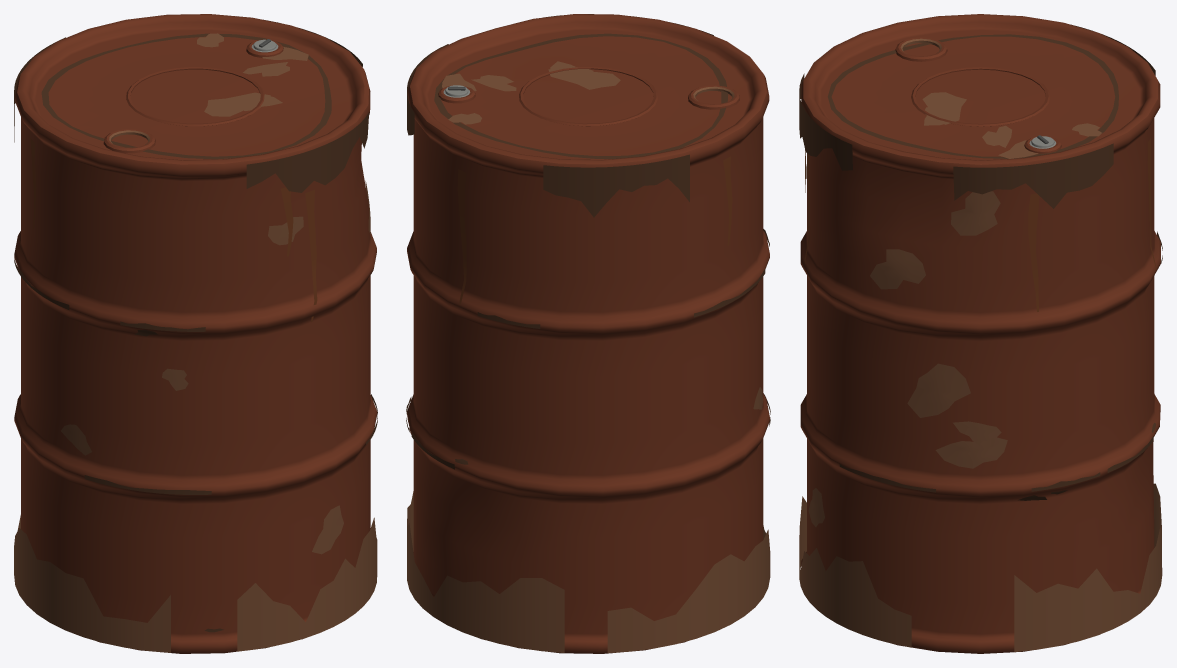
The model's file is barrel@1.glb.
The picture shows the model from 3 angles, left to right: view 1: azimuth 30°, elevation 25°; view 2: azimuth 150°, elevation 25°; view 3: azimuth 270°, elevation 25°; orthographic projection.
Parts seen in each view (by area): view 1: fass0, fass1, fass2, fass6; view 2: fass0, fass1, fass2, fass6; view 3: fass0, fass1, fass2, fass6.
Part boxes in pixels (bbox=[...]): fass0: bbox=[14, 14, 377, 653]; fass1: bbox=[14, 33, 377, 652]; fass2: bbox=[14, 19, 377, 632]; fass6: bbox=[30, 138, 317, 322]; fass0: bbox=[407, 14, 769, 653]; fass1: bbox=[407, 61, 770, 653]; fass2: bbox=[406, 14, 770, 469]; fass6: bbox=[457, 156, 732, 303]; fass0: bbox=[800, 14, 1160, 653]; fass1: bbox=[799, 38, 1162, 652]; fass2: bbox=[799, 24, 1162, 500]; fass6: bbox=[804, 138, 1156, 311].
Size of the model in its own units: 0.5942 by 0.888 by 0.5942.
